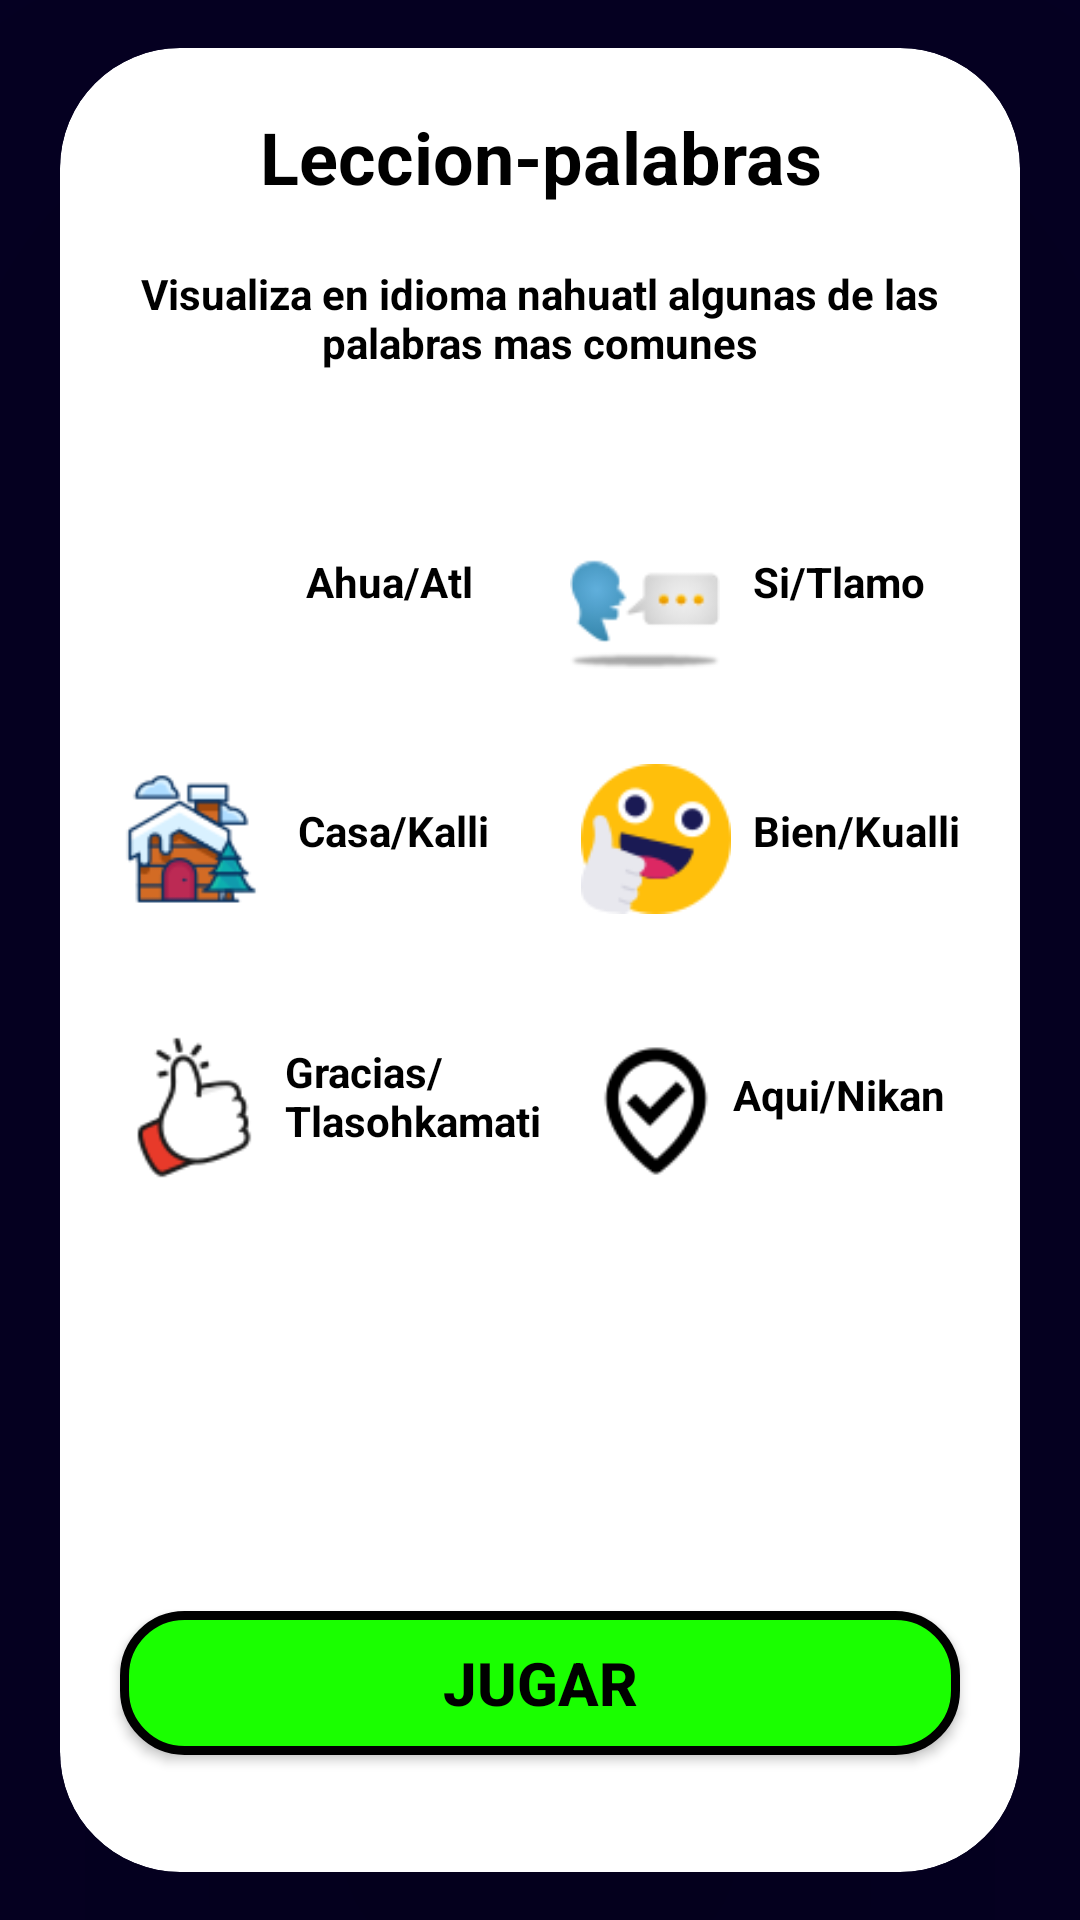

Where icons sit on this 1080px×1920px app screen, as {"x1": x1, "y1": y1, "x2": x2, "y2": y2}:
good: {"x1": 581, "y1": 764, "x2": 731, "y2": 914}
here: {"x1": 604, "y1": 1047, "x2": 708, "y2": 1175}
house: {"x1": 127, "y1": 775, "x2": 256, "y2": 903}
speak: {"x1": 570, "y1": 560, "x2": 718, "y2": 667}
